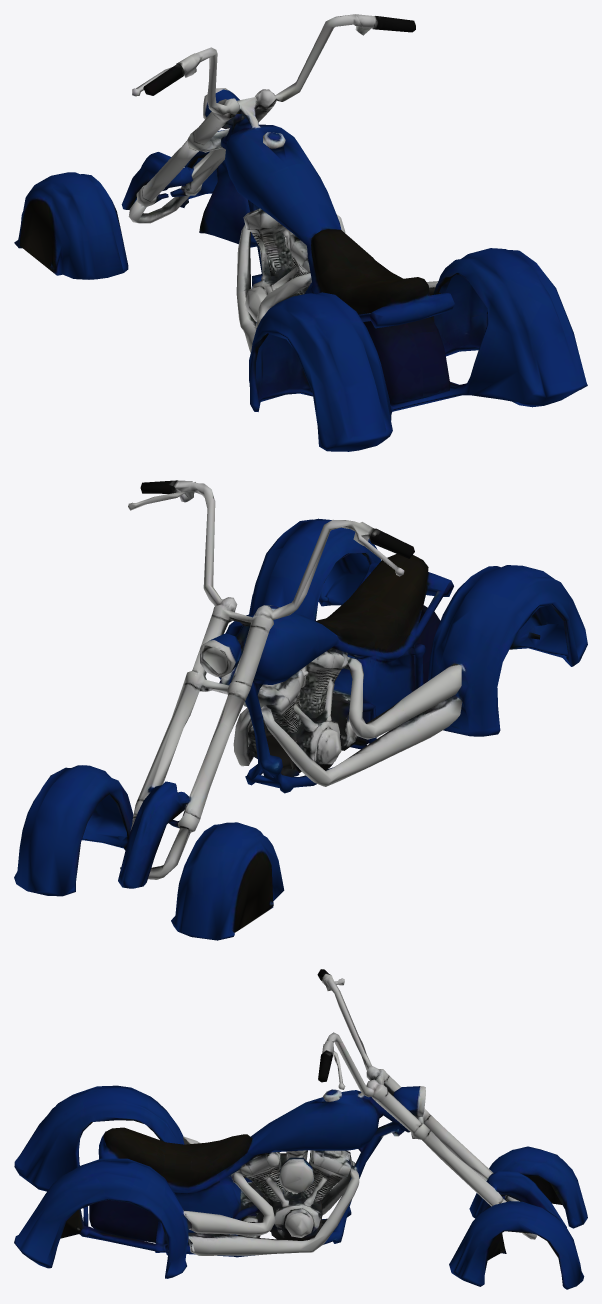
File: body.glb
The picture shows the model from 3 angles, top to bottom: view 1: azimuth 30°, elevation 25°; view 2: azimuth 150°, elevation 25°; view 3: azimuth 270°, elevation 25°; orthographic projection. The views are drawn at different scales.
Parts seen in each view (by area): view 1: tripo_node_d1df4ce6-4d5c-453f-b405-4a896f8588bc; view 2: tripo_node_d1df4ce6-4d5c-453f-b405-4a896f8588bc; view 3: tripo_node_d1df4ce6-4d5c-453f-b405-4a896f8588bc.
Part boxes in pixels (left/top/right/bottom): tripo_node_d1df4ce6-4d5c-453f-b405-4a896f8588bc: left=14, top=14, right=587, bottom=451; tripo_node_d1df4ce6-4d5c-453f-b405-4a896f8588bc: left=14, top=480, right=587, bottom=940; tripo_node_d1df4ce6-4d5c-453f-b405-4a896f8588bc: left=14, top=969, right=587, bottom=1289.
Size of the model in its own units: 0.4447 by 0.4642 by 0.9995.
Materials: 1 (1 with a texture image).
